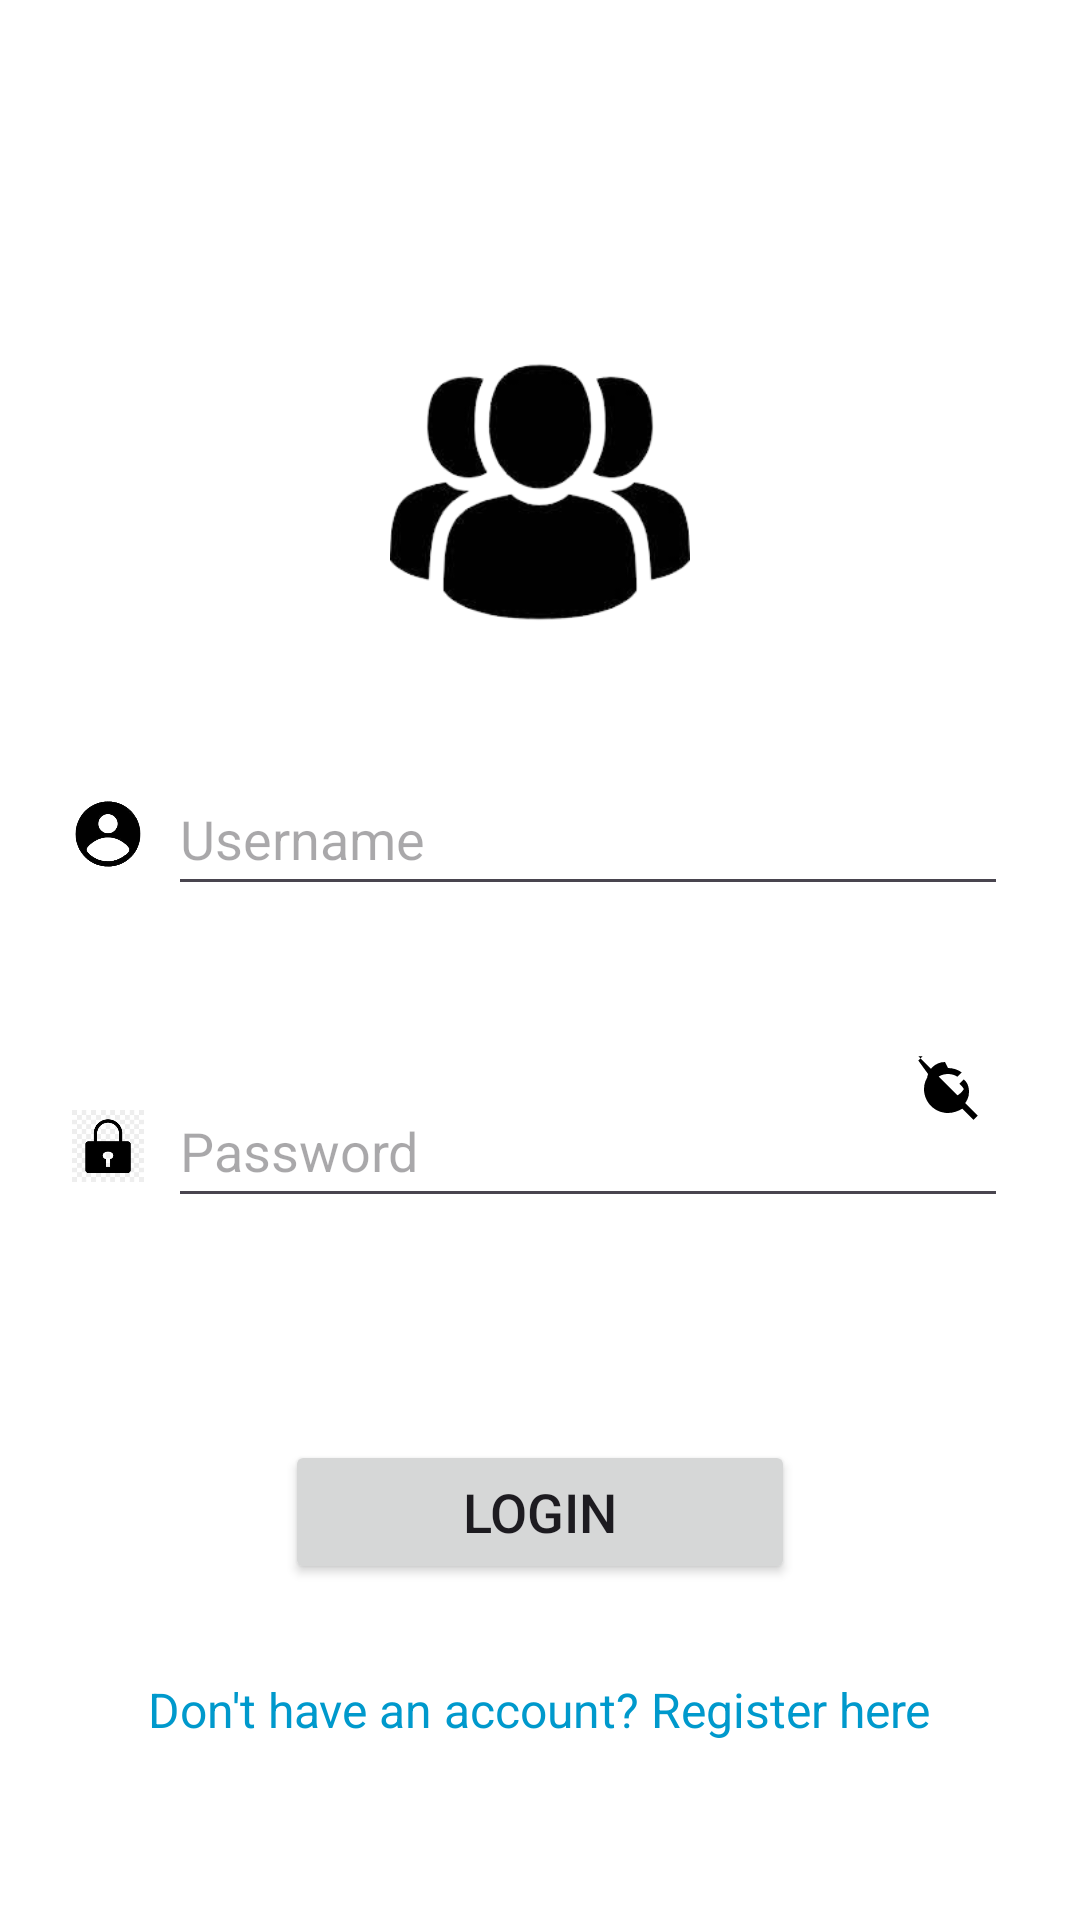

Locate icon controls on the screen. Image size 1080×1920, boxes as (x1, y1, x2, y2).
loginicon: (390, 364, 690, 620)
visibility off: (918, 1056, 978, 1120)
